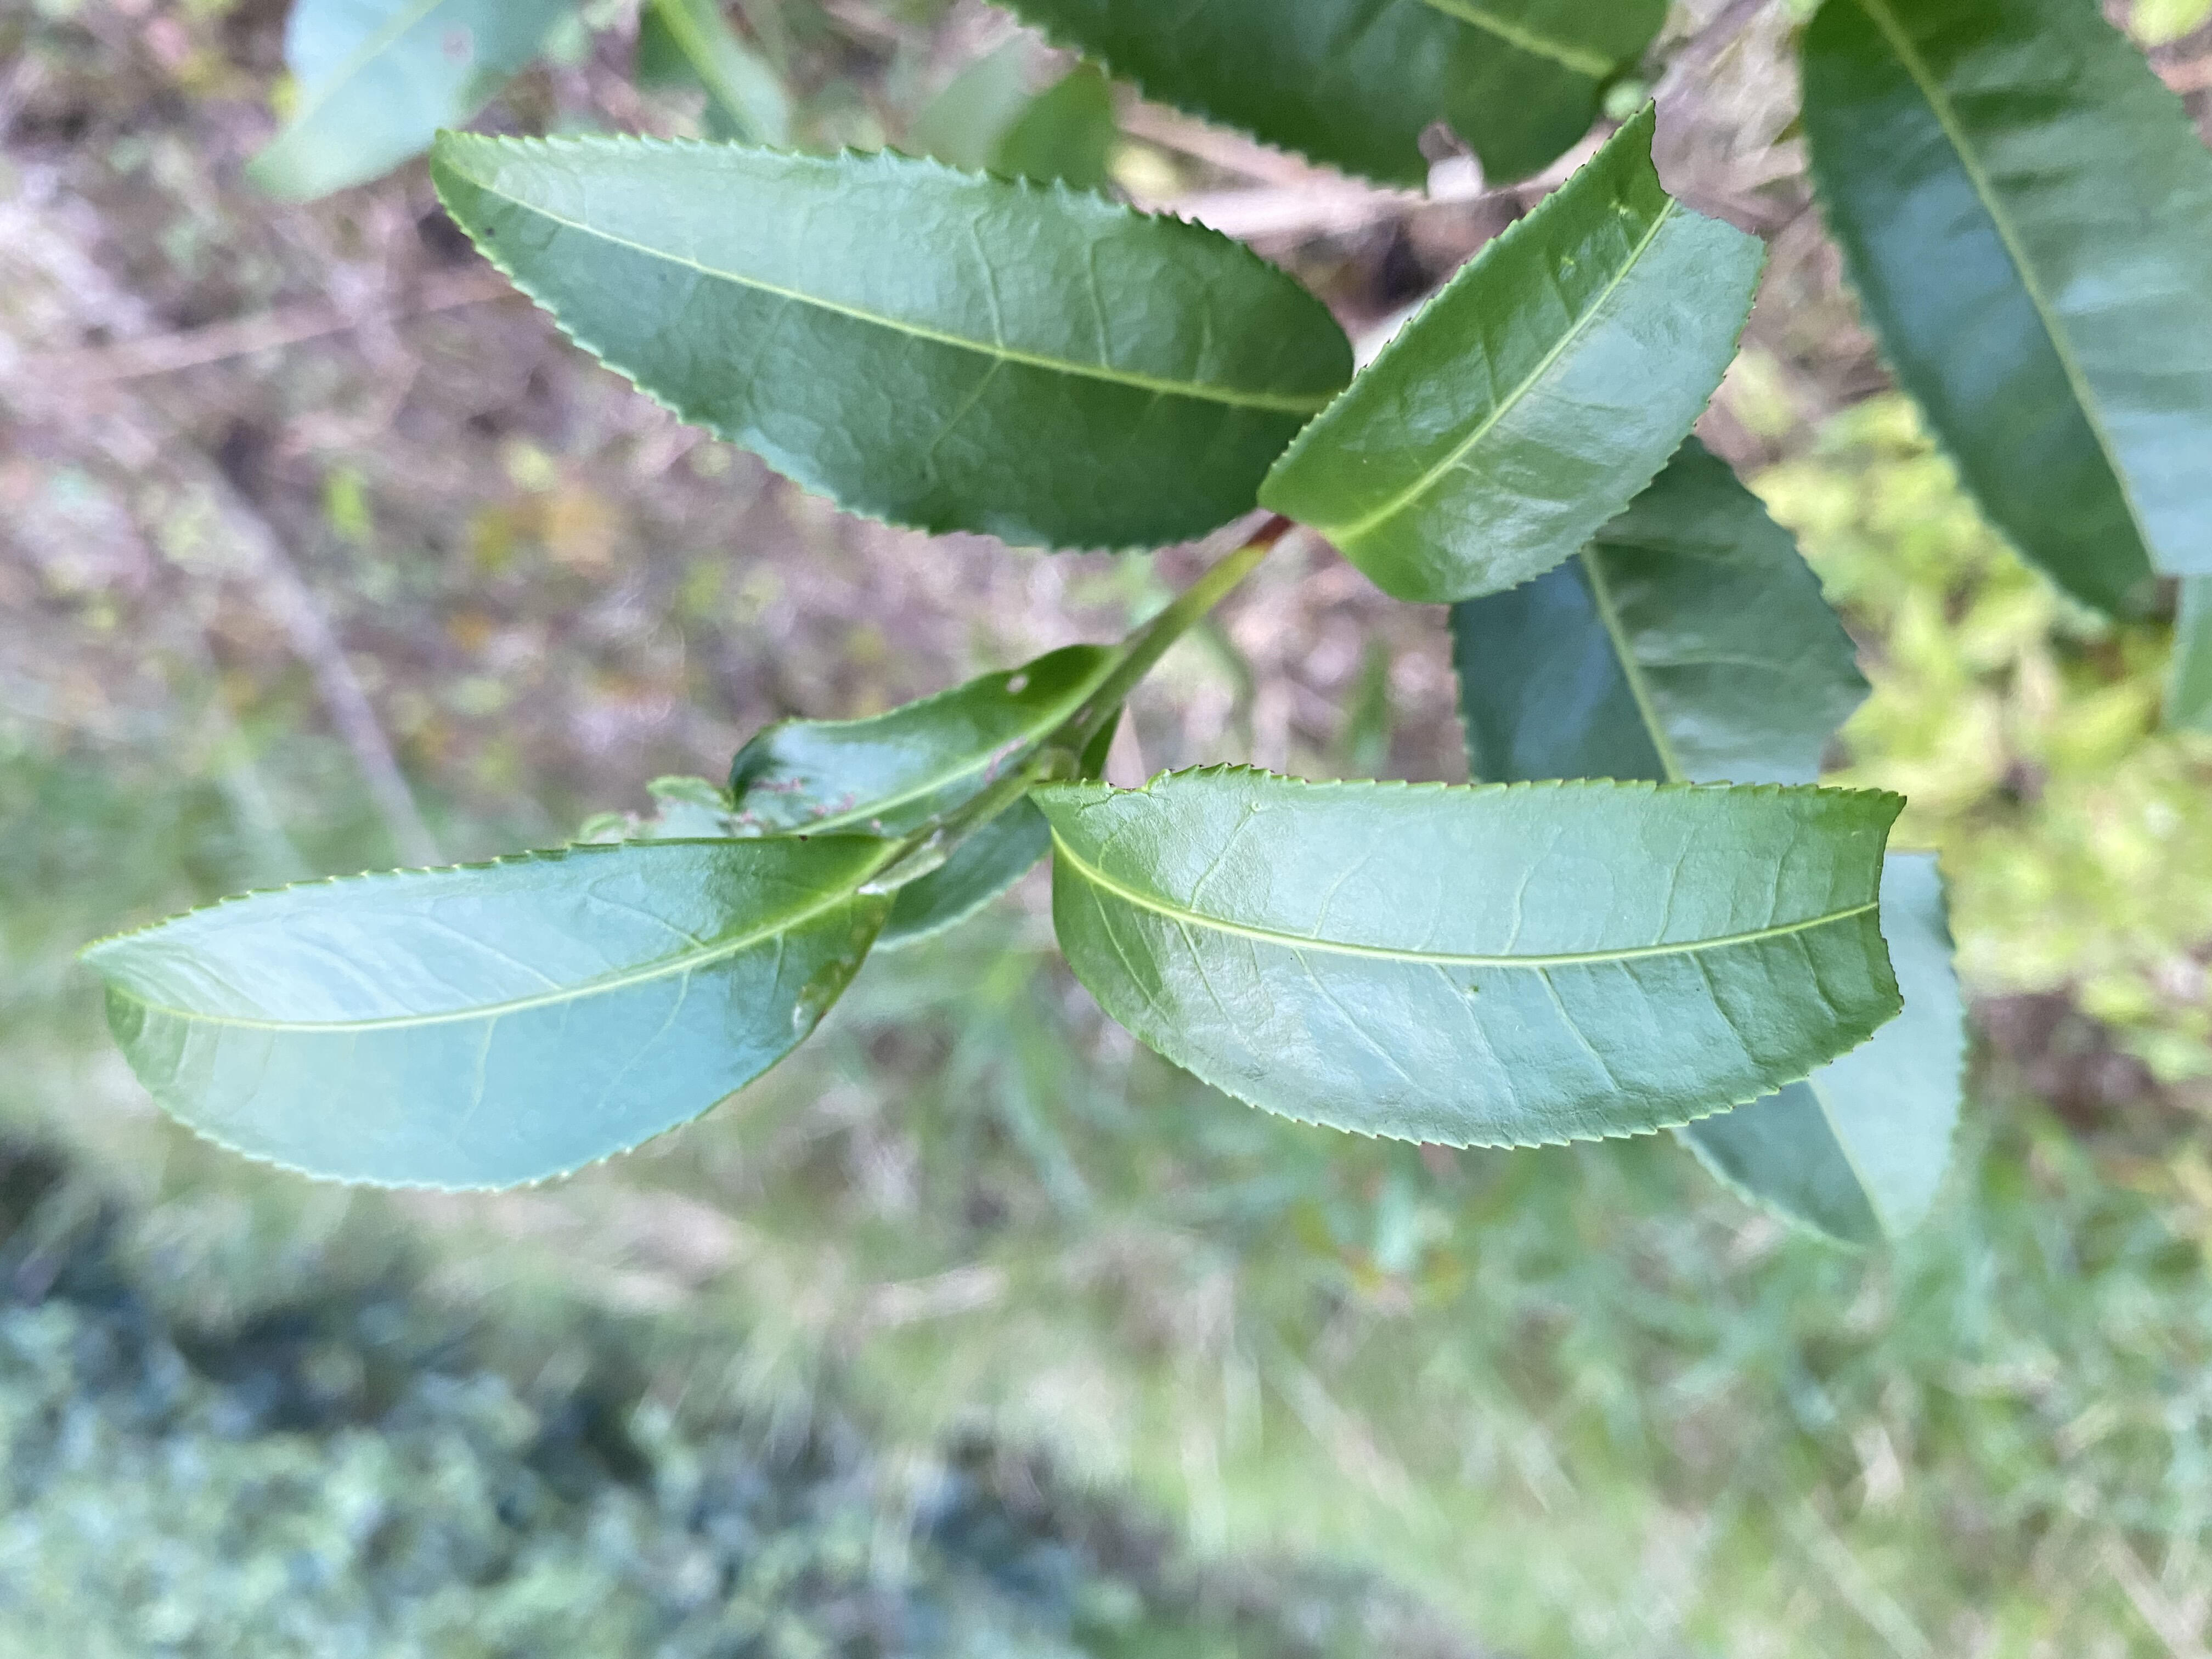chihuo_low: (1024, 762, 1911, 1150), (1261, 101, 1775, 612)
healthy: (428, 125, 1355, 558), (71, 835, 892, 1190)
